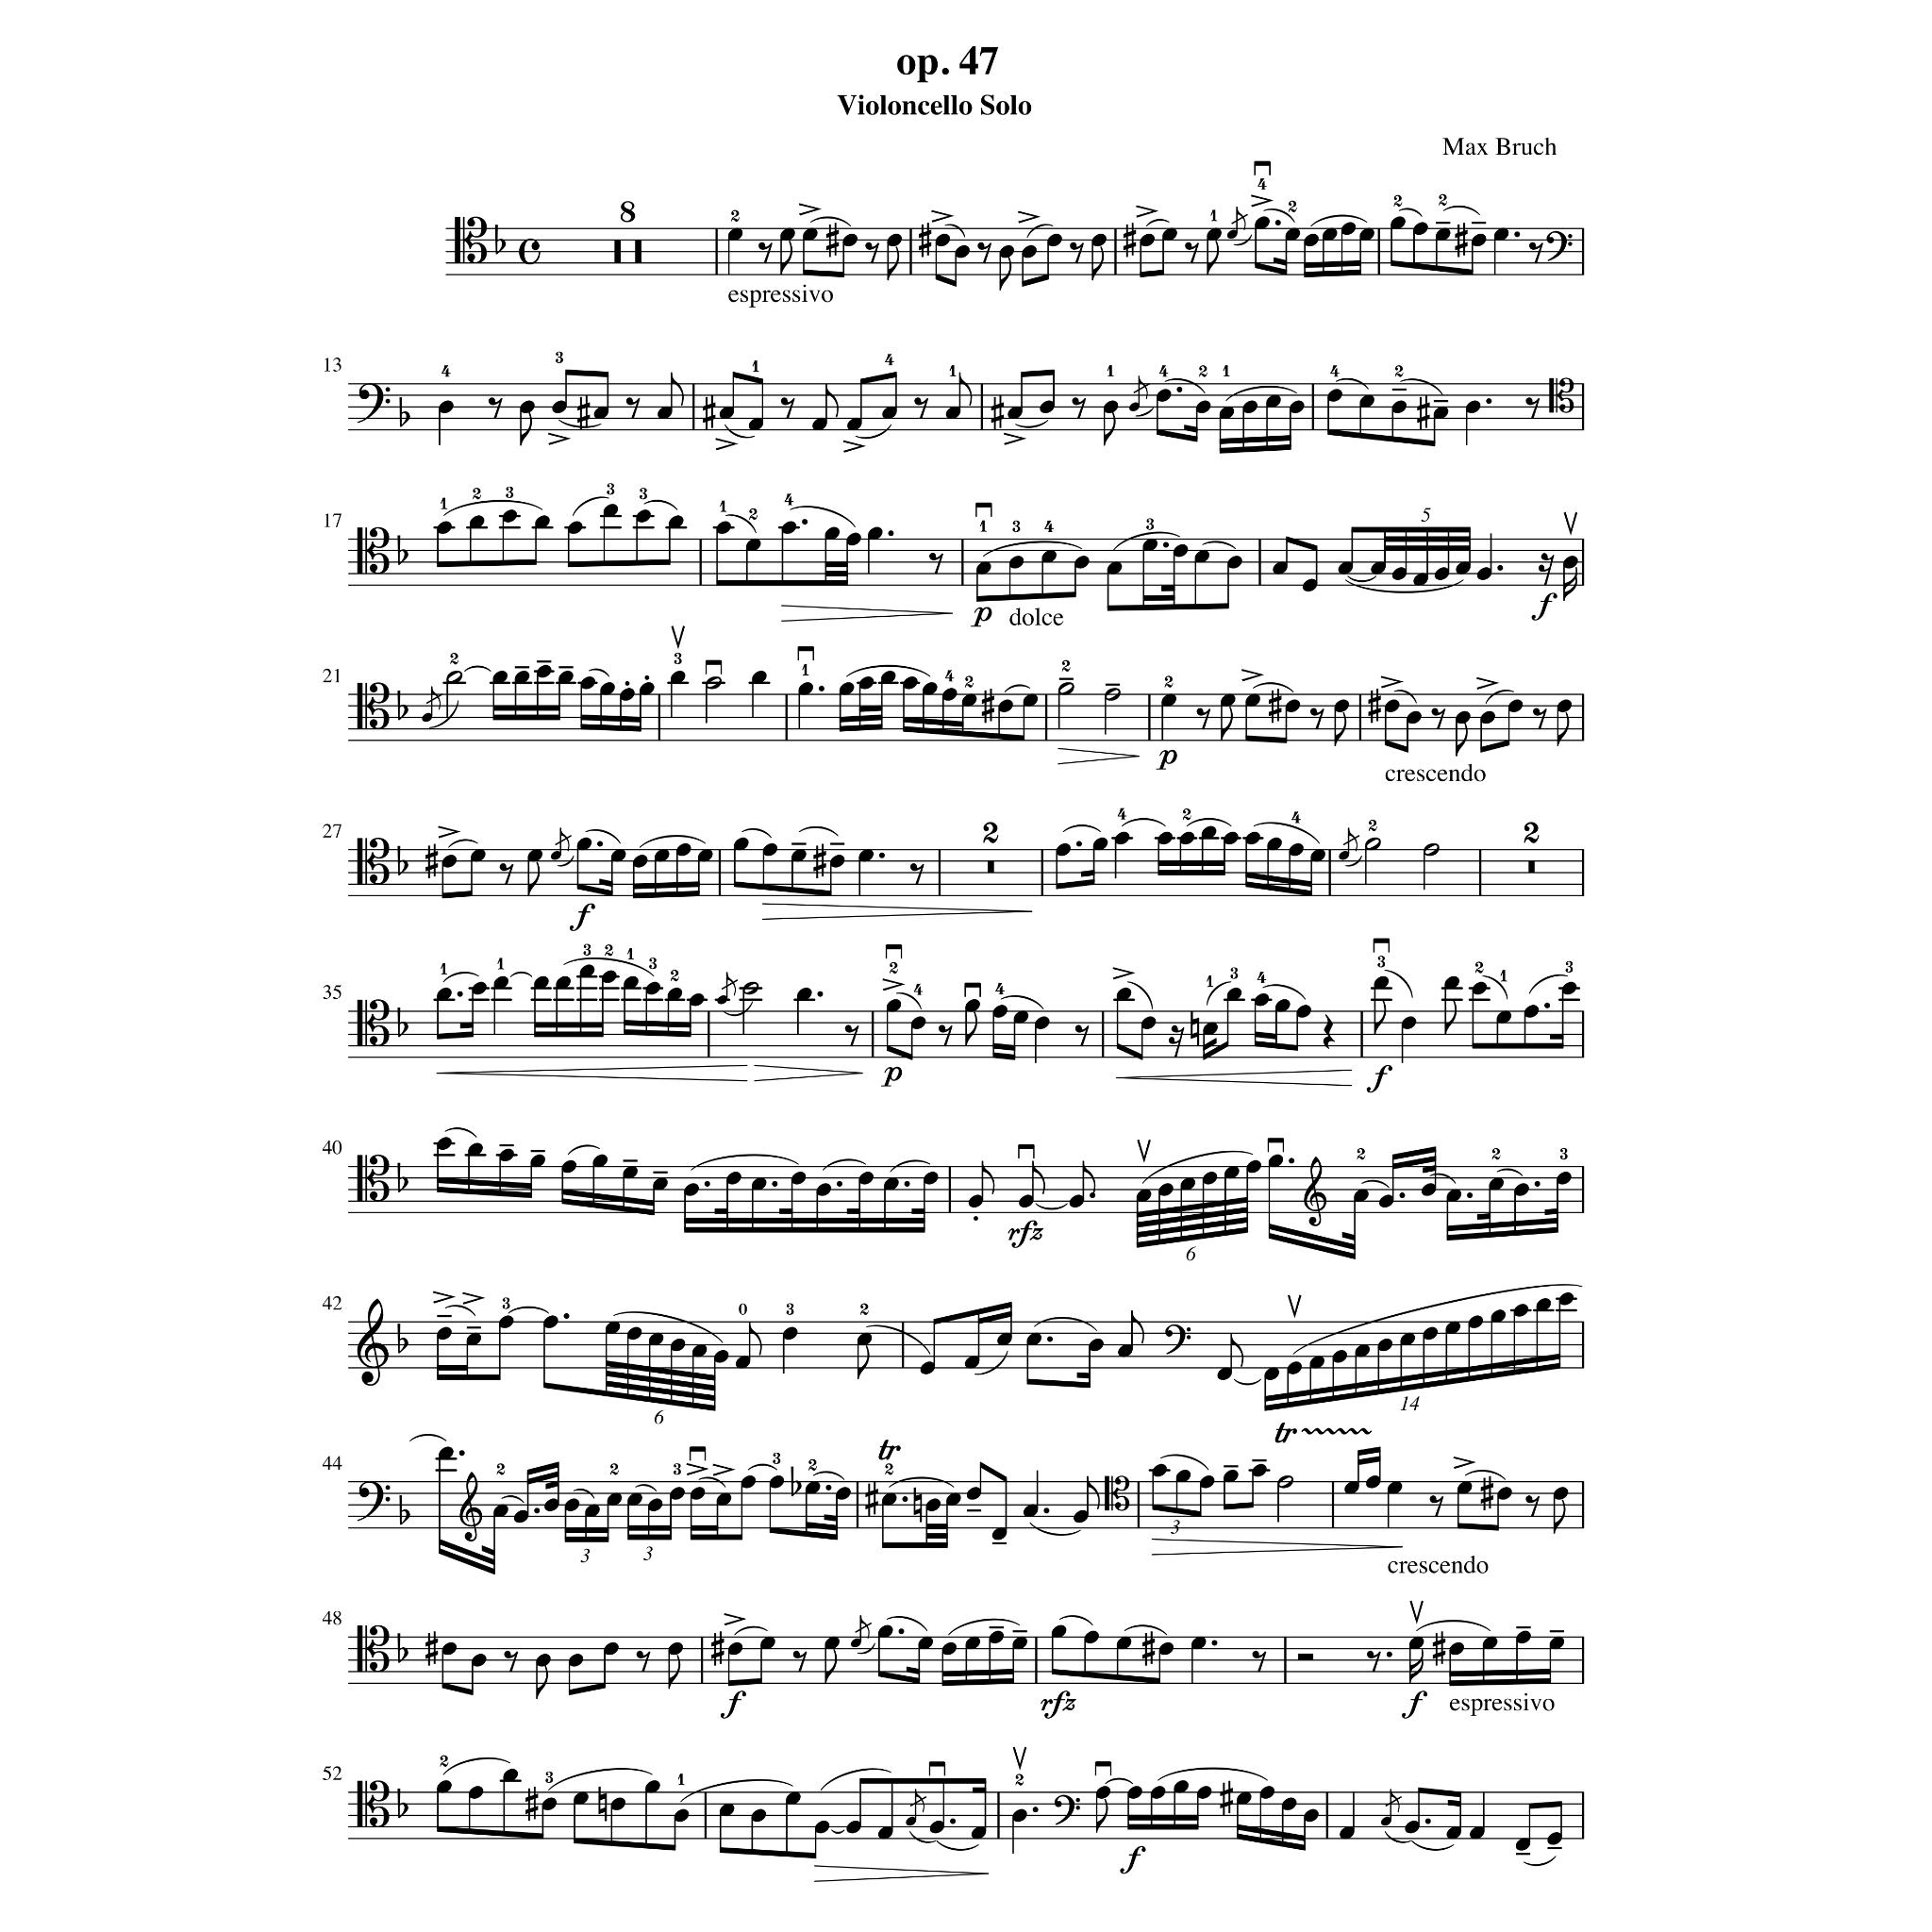fClef: (357, 384, 391, 425), (357, 1481, 391, 1522)
flag16thDown: (1564, 566, 1578, 602), (1408, 1649, 1422, 1684)
flag8thDown: (1221, 706, 1233, 741), (1557, 711, 1569, 747), (1334, 711, 1346, 747), (1456, 722, 1468, 757), (856, 1345, 869, 1380), (824, 1649, 837, 1684), (1207, 241, 1219, 274), (780, 241, 793, 274), (886, 248, 899, 281), (1000, 257, 1012, 290), (1092, 248, 1104, 281), (1104, 412, 1116, 446), (520, 412, 533, 446), (527, 862, 540, 895), (1375, 1000, 1387, 1033), (1445, 1000, 1458, 1033), (966, 1012, 978, 1046), (1553, 1500, 1566, 1534), (536, 1665, 548, 1698), (669, 1654, 681, 1688), (1095, 1799, 1108, 1833)
flag8thUp: (1341, 821, 1361, 853), (1384, 1782, 1403, 1813), (1231, 200, 1249, 232), (425, 679, 442, 711), (554, 821, 571, 853), (855, 1608, 872, 1640), (909, 1782, 927, 1813), (1132, 370, 1150, 400), (720, 966, 738, 996), (1083, 1161, 1097, 1196), (1031, 1161, 1046, 1196), (982, 1161, 996, 1196), (1086, 1476, 1100, 1511), (671, 373, 685, 407), (959, 373, 973, 407), (1230, 1334, 1244, 1368), (1131, 1311, 1145, 1345), (748, 1322, 763, 1355), (826, 384, 839, 418)
gClef: (357, 1299, 389, 1387)
noteheadBlack: (1141, 538, 1159, 552), (1369, 561, 1387, 575), (1454, 561, 1472, 575), (1113, 832, 1131, 846), (644, 982, 662, 996), (644, 1780, 662, 1794), (672, 1808, 690, 1822), (1304, 234, 1320, 248), (1472, 234, 1488, 248), (842, 234, 858, 248), (934, 234, 950, 248), (886, 234, 902, 248), (1047, 234, 1063, 248), (1139, 234, 1155, 248), (1092, 234, 1108, 248), (1265, 395, 1281, 409), (1359, 395, 1375, 409), (846, 418, 862, 432), (812, 418, 828, 432), (748, 418, 764, 432), (1272, 561, 1288, 575), (1226, 556, 1242, 570), (1302, 579, 1318, 593), (1338, 561, 1353, 575), (1074, 556, 1090, 570), (1106, 561, 1122, 575), (1562, 556, 1578, 570), (1433, 566, 1449, 580), (1391, 566, 1407, 580), (1476, 566, 1491, 580), (667, 515, 683, 529), (534, 515, 550, 529), (469, 515, 485, 529), (977, 561, 993, 575), (846, 533, 862, 547), (1008, 556, 1024, 570), (867, 527, 883, 541), (745, 538, 761, 552), (824, 527, 840, 541), (1221, 694, 1237, 708), (1246, 694, 1261, 708), (1023, 694, 1039, 708), (1161, 694, 1177, 708), (1479, 711, 1495, 725), (1454, 711, 1470, 725), (1407, 711, 1422, 725), (580, 676, 596, 690), (557, 671, 573, 685), (669, 671, 685, 685), (513, 671, 529, 685), (492, 671, 508, 685), (881, 671, 897, 685), (858, 676, 874, 690), (961, 694, 977, 708), (902, 676, 918, 690), (752, 671, 768, 685), (1223, 832, 1238, 846), (1201, 826, 1217, 840), (1267, 837, 1283, 851), (1246, 832, 1261, 846), (1157, 832, 1173, 846), (1092, 837, 1108, 851), (577, 837, 593, 851), (632, 855, 648, 869), (441, 855, 456, 869), (830, 855, 846, 869), (732, 837, 748, 851), (1203, 1021, 1219, 1035), (1253, 993, 1269, 1007), (1226, 987, 1242, 1001), (1116, 987, 1132, 1001), (1033, 1016, 1049, 1030), (1012, 1010, 1028, 1024), (1139, 1016, 1155, 1030), (1560, 982, 1576, 996), (1401, 1016, 1417, 1030), (1495, 1010, 1511, 1024), (1472, 982, 1488, 996), (688, 993, 704, 1007), (667, 987, 683, 1001), (437, 987, 453, 1001), (471, 982, 487, 996), (909, 1016, 925, 1030), (796, 987, 812, 1001), (1223, 1166, 1238, 1180), (1201, 1171, 1217, 1185), (1180, 1177, 1196, 1191), (1555, 1171, 1571, 1185), (1421, 1182, 1437, 1196), (1513, 1182, 1529, 1196), (1488, 1177, 1504, 1191), (623, 1166, 639, 1180), (683, 1182, 699, 1196), (653, 1177, 669, 1191), (499, 1148, 515, 1162), (467, 1143, 483, 1157), (883, 1177, 899, 1191), (924, 1171, 939, 1185), (858, 1171, 874, 1185), (791, 1171, 807, 1185), (750, 1177, 766, 1191), (816, 1182, 832, 1196), (1309, 1355, 1325, 1369), (1399, 1332, 1415, 1346), (1286, 1361, 1302, 1375), (1353, 1345, 1369, 1359), (1116, 1345, 1132, 1359), (1026, 1332, 1042, 1346), (1559, 1292, 1575, 1306), (1467, 1315, 1483, 1329), (1422, 1327, 1438, 1341), (1513, 1304, 1529, 1318), (1490, 1309, 1506, 1323), (543, 1315, 559, 1329), (648, 1332, 663, 1346), (626, 1327, 642, 1341), (437, 1327, 453, 1341), (465, 1332, 481, 1346), (996, 1332, 1012, 1346), (964, 1355, 980, 1369), (856, 1332, 872, 1346), (734, 1355, 750, 1369), (692, 1345, 708, 1359), (782, 1327, 798, 1341), (1345, 1481, 1361, 1495), (1251, 1463, 1267, 1477), (991, 1527, 1007, 1541), (966, 1486, 982, 1500), (947, 1491, 962, 1506), (1152, 1463, 1168, 1477), (1552, 1486, 1568, 1500), (1387, 1481, 1403, 1495), (1497, 1486, 1513, 1500), (1458, 1481, 1474, 1495), (607, 1491, 623, 1506), (690, 1486, 706, 1500), (669, 1486, 685, 1500), (626, 1491, 642, 1506), (437, 1445, 453, 1460), (881, 1491, 897, 1506), (835, 1486, 851, 1500), (805, 1481, 821, 1495), (715, 1491, 731, 1506), (1159, 1642, 1175, 1656), (1051, 1624, 1067, 1638), (1449, 1642, 1465, 1656), (667, 1642, 683, 1656), (603, 1642, 619, 1656), (568, 1652, 584, 1667), (727, 1642, 743, 1656), (441, 1642, 456, 1656), (536, 1652, 552, 1667), (471, 1652, 487, 1667), (878, 1624, 893, 1638), (941, 1642, 957, 1656), (1260, 1785, 1276, 1799), (1196, 1785, 1212, 1799), (1338, 1826, 1353, 1840), (1304, 1808, 1320, 1822), (1095, 1785, 1111, 1799), (1173, 1780, 1189, 1794), (1150, 1785, 1166, 1799), (1127, 1785, 1143, 1799), (1546, 1831, 1562, 1845), (1405, 1821, 1421, 1835), (1468, 1826, 1484, 1840), (1445, 1826, 1461, 1840), (718, 1803, 734, 1817), (437, 1780, 453, 1794), (467, 1785, 483, 1799), (929, 1821, 945, 1835), (878, 1826, 893, 1840), (1012, 1808, 1028, 1822), (970, 1826, 985, 1840), (814, 1821, 830, 1835), (846, 1821, 862, 1835), (750, 1808, 766, 1822), (801, 228, 819, 241), (602, 504, 619, 517), (1384, 701, 1401, 713), (759, 1637, 777, 1649), (1414, 573, 1428, 587), (1180, 832, 1194, 846), (1159, 1182, 1173, 1196), (727, 1171, 741, 1185), (499, 1315, 513, 1329), (920, 1361, 934, 1375), (1284, 228, 1300, 241), (1391, 218, 1407, 230), (1359, 228, 1375, 241), (1339, 223, 1355, 235), (1322, 228, 1338, 241), (1162, 228, 1178, 241), (1254, 218, 1270, 230), (1207, 228, 1223, 241), (1493, 228, 1509, 241), (1412, 223, 1428, 235), (1435, 228, 1451, 241), (780, 228, 796, 241), (727, 228, 743, 241), (1021, 246, 1037, 258), (998, 246, 1014, 258), (954, 246, 970, 258), (1242, 402, 1258, 414), (1219, 407, 1235, 419), (1194, 402, 1210, 414), (1288, 402, 1304, 414), (1327, 389, 1343, 402), (1102, 402, 1118, 414), (1039, 402, 1054, 414), (1155, 389, 1171, 402), (1465, 402, 1481, 414), (1391, 402, 1407, 414), (1433, 407, 1449, 419), (656, 407, 672, 419), (593, 407, 609, 419), (718, 407, 734, 419), (437, 402, 453, 414), (552, 402, 568, 414), (520, 402, 536, 414), (945, 407, 961, 419), (881, 407, 897, 419), (1007, 407, 1023, 419), (1194, 550, 1210, 563), (1040, 550, 1056, 563), (1173, 545, 1189, 557), (635, 510, 651, 522), (566, 522, 582, 534), (715, 522, 731, 534), (437, 522, 453, 534), (501, 510, 517, 522), (780, 522, 796, 534), (1284, 701, 1300, 713), (998, 701, 1014, 713), (1557, 701, 1573, 713), (1507, 701, 1523, 713), (1334, 701, 1350, 713), (619, 688, 635, 701), (600, 683, 616, 695), (639, 683, 655, 695), (536, 665, 552, 678), (941, 688, 957, 701), (839, 683, 855, 695), (922, 683, 938, 695), (798, 683, 814, 695), (1288, 844, 1304, 856), (1054, 844, 1070, 856), (1309, 849, 1325, 862), (610, 849, 626, 862), (676, 844, 692, 856), (653, 849, 669, 862), (527, 849, 543, 862), (471, 849, 487, 862), (791, 849, 807, 862), (763, 844, 778, 856), (858, 849, 874, 862), (697, 849, 713, 862), (1373, 977, 1389, 989), (1295, 1005, 1311, 1017), (1274, 1000, 1290, 1012), (1444, 977, 1460, 989), (1523, 1005, 1539, 1017), (623, 977, 639, 989), (600, 971, 616, 984), (579, 964, 594, 977), (556, 977, 571, 989), (533, 977, 548, 989), (494, 977, 510, 989), (885, 1000, 901, 1012), (993, 1005, 1008, 1017), (964, 1000, 980, 1012), (1246, 1161, 1261, 1173), (1353, 1189, 1369, 1201), (1267, 1155, 1283, 1168), (1069, 1194, 1085, 1207), (1019, 1194, 1035, 1207), (1136, 1189, 1152, 1201), (1445, 1189, 1461, 1201), (1378, 1194, 1394, 1207), (593, 1155, 609, 1168), (561, 1161, 577, 1173), (437, 1138, 453, 1150), (529, 1155, 545, 1168), (968, 1194, 984, 1207), (1376, 1339, 1392, 1352), (1332, 1350, 1348, 1362), (1088, 1339, 1104, 1352), (1263, 1368, 1279, 1380), (1217, 1368, 1233, 1380), (1445, 1322, 1461, 1334), (1536, 1299, 1552, 1311), (669, 1339, 685, 1352), (713, 1350, 729, 1362), (1223, 1470, 1238, 1483), (1198, 1476, 1214, 1488), (1175, 1470, 1191, 1483), (1023, 1504, 1039, 1516), (1072, 1511, 1088, 1523), (584, 1504, 600, 1516), (564, 1499, 580, 1511), (543, 1499, 559, 1511), (648, 1499, 663, 1511), (513, 1511, 529, 1523), (494, 1504, 510, 1516), (925, 1499, 941, 1511), (740, 1476, 755, 1488), (768, 1476, 784, 1488), (1191, 1637, 1207, 1649), (1012, 1637, 1028, 1649), (1116, 1637, 1132, 1649), (1083, 1631, 1099, 1644), (1548, 1637, 1564, 1649), (1408, 1637, 1424, 1649), (1516, 1631, 1532, 1644), (1481, 1637, 1497, 1649), (989, 1631, 1005, 1644), (918, 1637, 934, 1649), (964, 1637, 980, 1649), (824, 1637, 840, 1649), (1235, 1792, 1251, 1805), (1281, 1798, 1297, 1810), (1514, 1838, 1530, 1851), (610, 1798, 626, 1810), (573, 1792, 589, 1805), (541, 1798, 557, 1810), (502, 1769, 518, 1782), (784, 1792, 800, 1805), (605, 1322, 619, 1334), (1366, 1476, 1380, 1488), (849, 1638, 862, 1649), (904, 1817, 916, 1828), (1338, 851, 1348, 862), (550, 851, 561, 862), (717, 994, 727, 1005), (1380, 1817, 1391, 1828), (1226, 230, 1238, 239), (1129, 403, 1139, 412), (421, 713, 432, 722)
noteheadHalf: (704, 676, 722, 690), (1364, 837, 1382, 851), (446, 671, 462, 685), (743, 982, 759, 996), (1422, 844, 1440, 856), (1276, 1476, 1293, 1488), (1058, 683, 1074, 695), (1104, 688, 1120, 701)
rest16th: (1168, 1024, 1185, 1058), (1537, 554, 1555, 586)
rest8th: (1184, 242, 1200, 265), (863, 242, 879, 265), (757, 242, 773, 265), (1069, 242, 1085, 265), (1525, 396, 1541, 419), (913, 396, 929, 419), (1196, 708, 1212, 731), (1309, 708, 1325, 731), (1430, 708, 1445, 731), (499, 863, 515, 886), (909, 863, 925, 886), (1074, 1024, 1090, 1047), (938, 1024, 954, 1047), (844, 1024, 860, 1047), (1525, 1495, 1541, 1518), (1366, 1651, 1382, 1672), (635, 1651, 651, 1672), (502, 1651, 518, 1672), (1529, 242, 1543, 265), (977, 242, 991, 265), (1072, 396, 1086, 419), (626, 396, 640, 419), (488, 396, 502, 419), (780, 396, 794, 419), (929, 552, 943, 575), (1532, 708, 1546, 731), (1430, 1495, 1444, 1518), (1253, 1651, 1267, 1672), (793, 1651, 807, 1672)
restHNr: (619, 200, 635, 225), (982, 821, 998, 844), (1523, 821, 1539, 844)
restHalf: (1297, 1652, 1313, 1660)
restQuarter: (1323, 1014, 1336, 1049)
restWhole: (614, 239, 640, 264), (1527, 862, 1536, 872), (987, 862, 994, 872)
